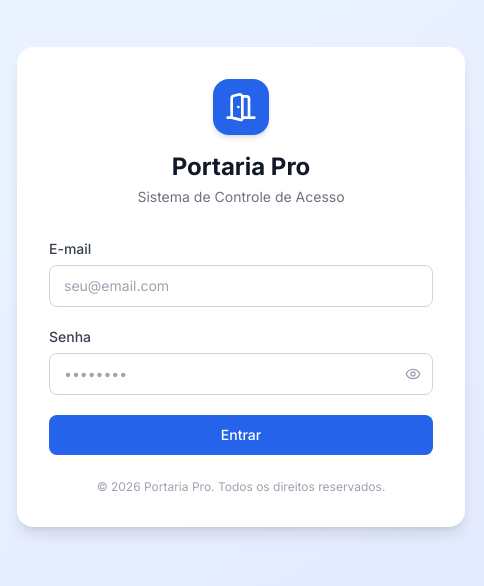
Test: LoginPage › shows error message on failed login
Type "wrong@test.com" into the field with placeholder "seu@email.com". click: point(241, 286)
box: [49,265,433,307]
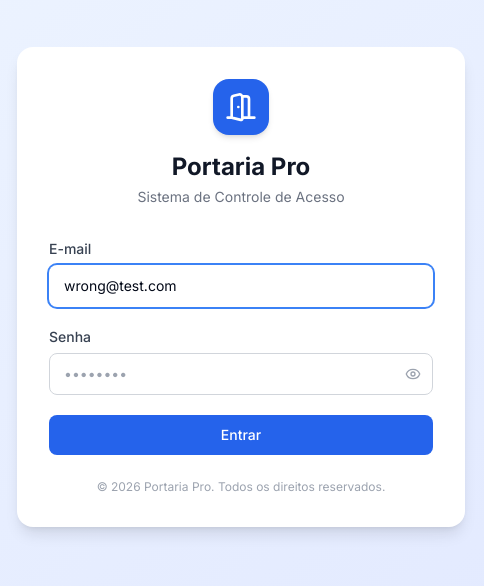
Type "wrongpassword" into the password field with placeholder "••••••••". click: point(241, 374)
box: [49,353,433,395]
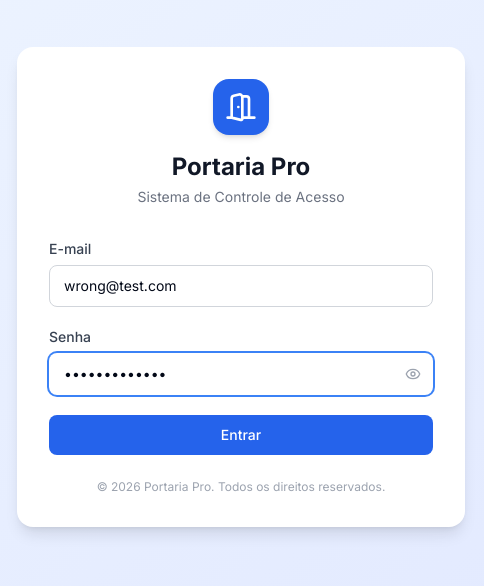
Click the button "Entrar". click: point(241, 435)
box: [49,415,433,455]
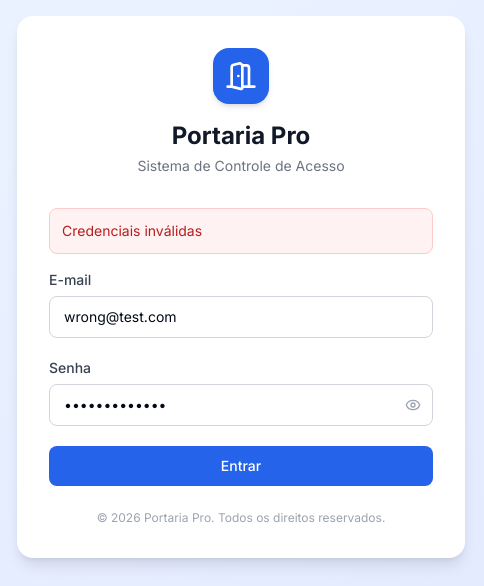
Check: the text "Credenciais inválidas" is shown, box [49,208,433,254]
